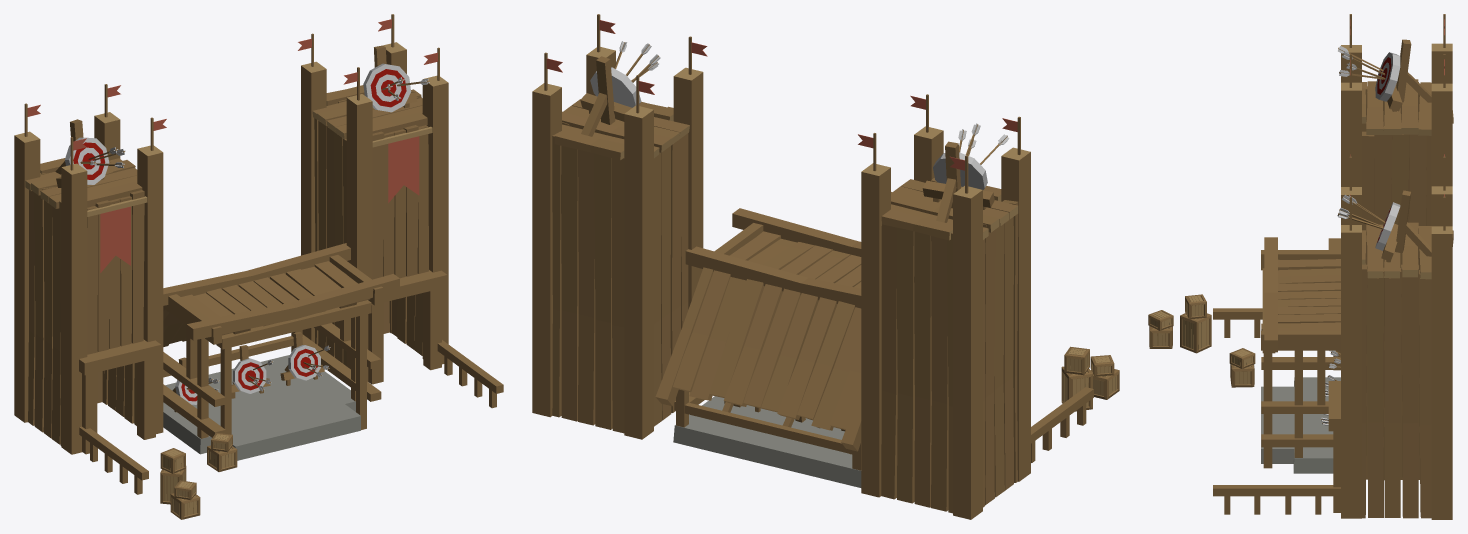
The model's file is Archery_FirstAge_Level3.glb.
3 renders of one model, left to right at view 1: azimuth 30°, elevation 25°; view 2: azimuth 150°, elevation 25°; view 3: azimuth 270°, elevation 25°, orthographic. The views are drawn at different scales.
Visible parts, largest first — view 1: Archery_FirstAge_Level3; view 2: Archery_FirstAge_Level3; view 3: Archery_FirstAge_Level3.
Part boxes in pixels (bbox=[...]): Archery_FirstAge_Level3: bbox=[14, 14, 503, 519]; Archery_FirstAge_Level3: bbox=[532, 14, 1119, 519]; Archery_FirstAge_Level3: bbox=[1148, 14, 1453, 519].
Size of the model in its own units: 1.88 by 1.5 by 1.27.
